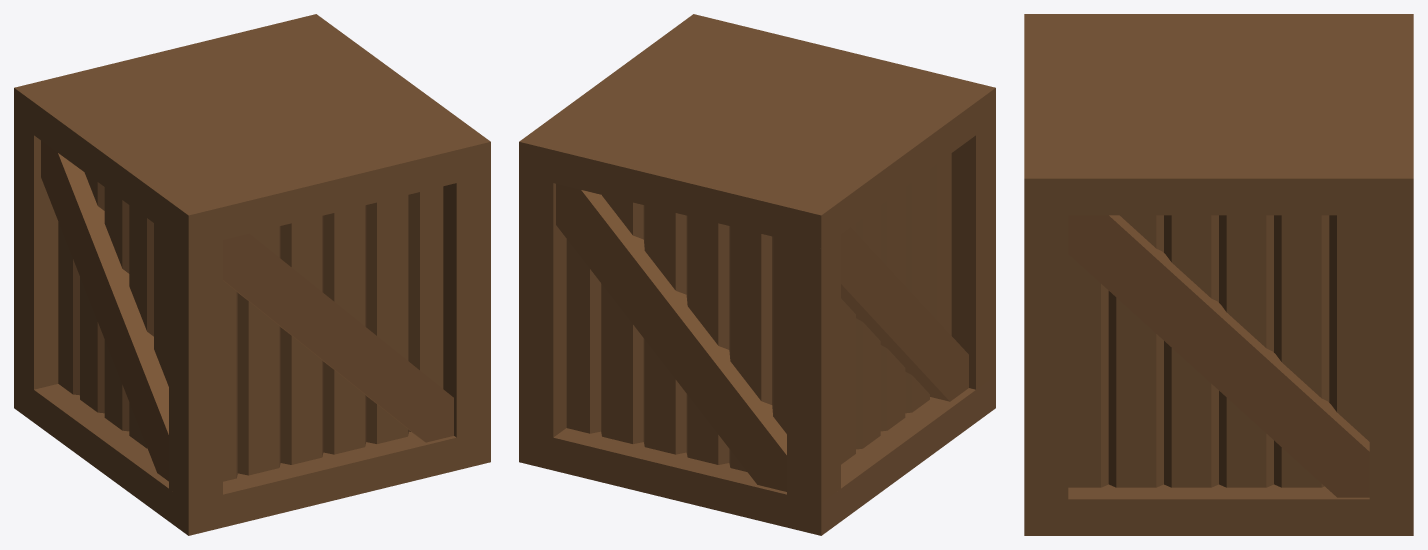
The model's file is crate.fbx.
3 renders of one model, left to right at view 1: azimuth 30°, elevation 25°; view 2: azimuth 150°, elevation 25°; view 3: azimuth 270°, elevation 25°, orthographic. The views are drawn at different scales.
Parts seen in each view (by area): view 1: crate; view 2: crate; view 3: crate.
Boxes of the visible parts, x1,y1,x2,y2 form: crate: [14, 14, 490, 535]; crate: [519, 14, 995, 535]; crate: [1024, 14, 1413, 535].
Bounding box in the file's own units: 236 × 239 × 236.
